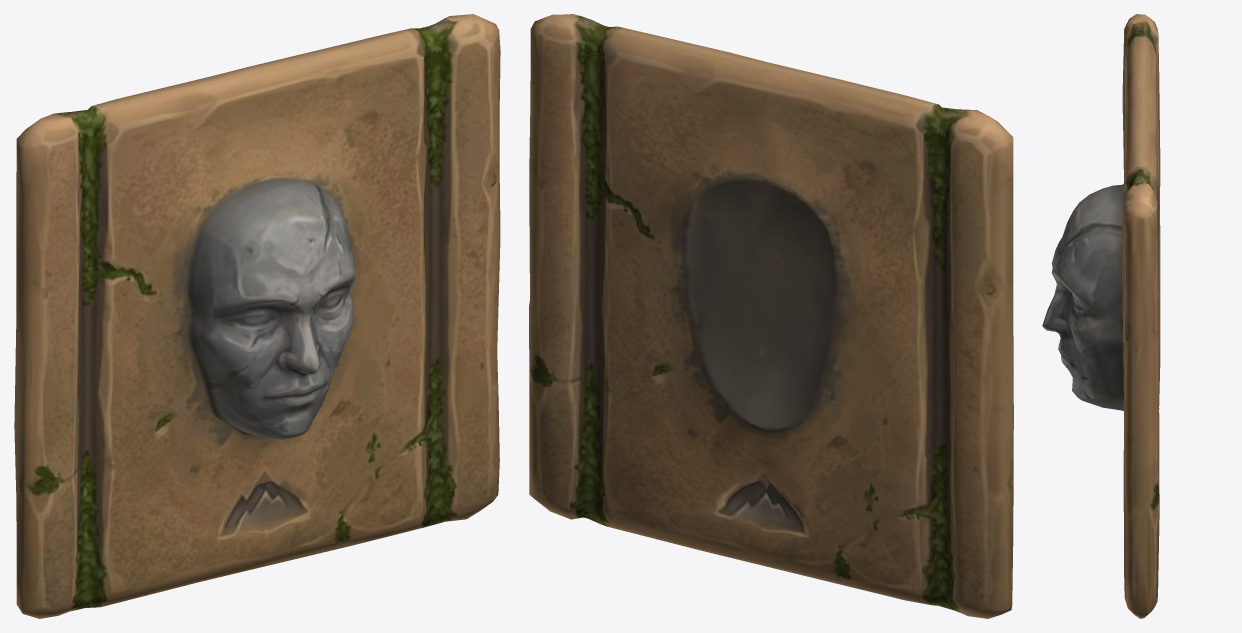
The model's file is el_pilar_vivo.glb.
3 views of the same model, side by side, from view 1: azimuth 30°, elevation 25°; view 2: azimuth 150°, elevation 25°; view 3: azimuth 270°, elevation 25° (orthographic). The views are drawn at different scales.
Visible parts, largest first — view 1: baixa; view 2: baixa; view 3: baixa.
Part boxes in pixels (left/top/right/bottom): baixa: left=14, top=14, right=500, bottom=618; baixa: left=529, top=14, right=1013, bottom=618; baixa: left=1042, top=14, right=1160, bottom=618.
Bounding box in the file's own units: 1 × 1 × 0.3975.
1 material, 1 textured.
